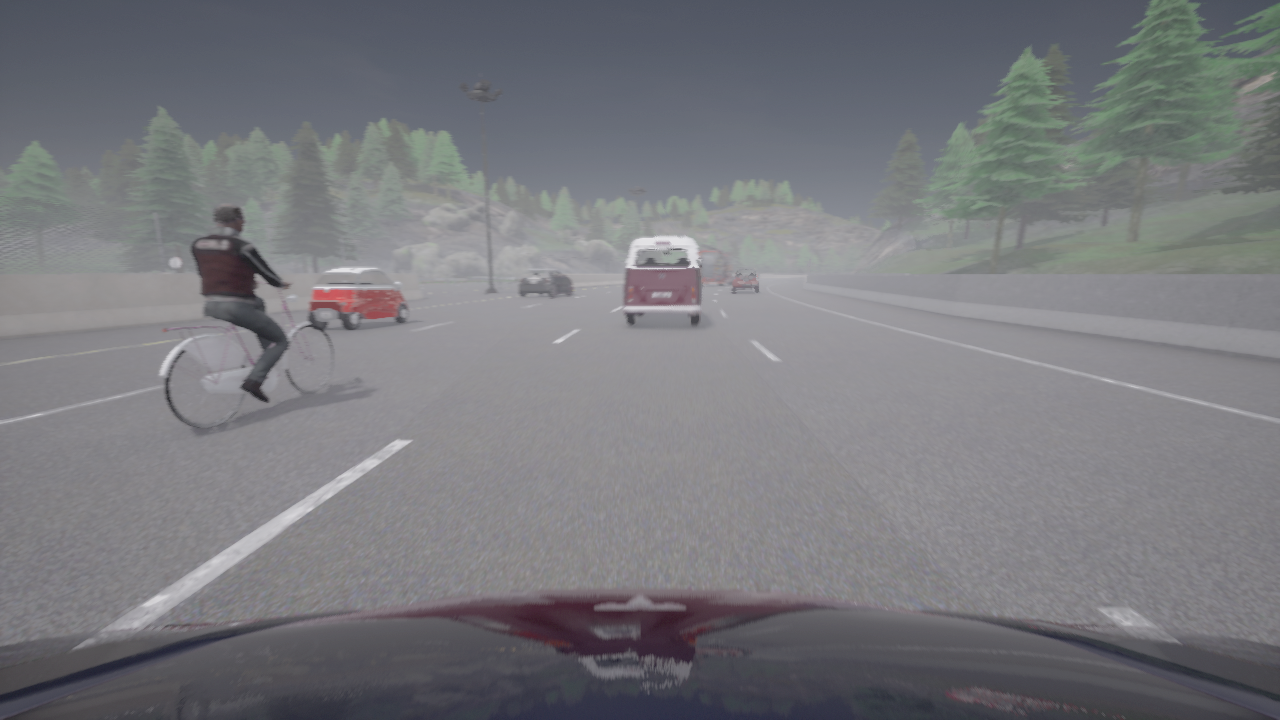cyclist: (0, 588, 1279, 719), (159, 281, 333, 428), (623, 236, 702, 325), (307, 266, 409, 330), (697, 244, 735, 286), (518, 268, 572, 296), (732, 267, 759, 292)
